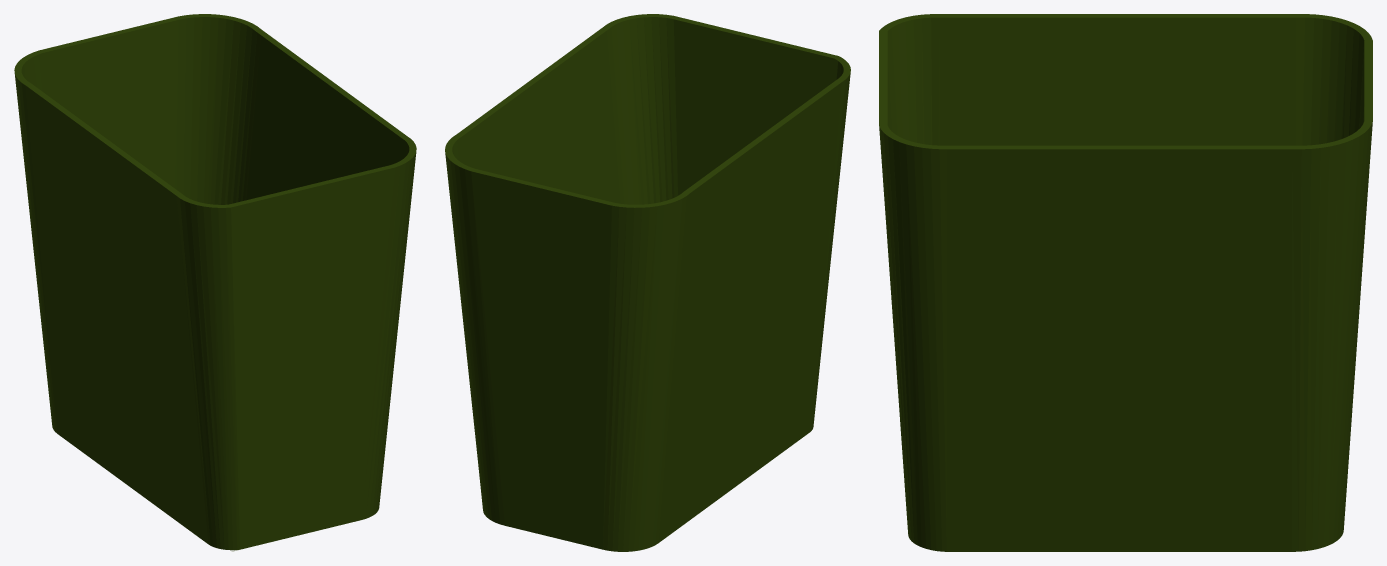
3 renders of one model, left to right at view 1: azimuth 30°, elevation 25°; view 2: azimuth 150°, elevation 25°; view 3: azimuth 270°, elevation 25°, orthographic. The views are drawn at different scales.
Parts seen in each view (by area): view 1: mesh1_mesh1-geometry; view 2: mesh1_mesh1-geometry; view 3: mesh1_mesh1-geometry.
Boxes of the visible parts, x1,y1,x2,y2 form: mesh1_mesh1-geometry: [14, 14, 416, 551]; mesh1_mesh1-geometry: [445, 14, 850, 551]; mesh1_mesh1-geometry: [879, 14, 1372, 551].
Bounding box in the file's own units: 0.427 × 0.6198 × 0.6585.
